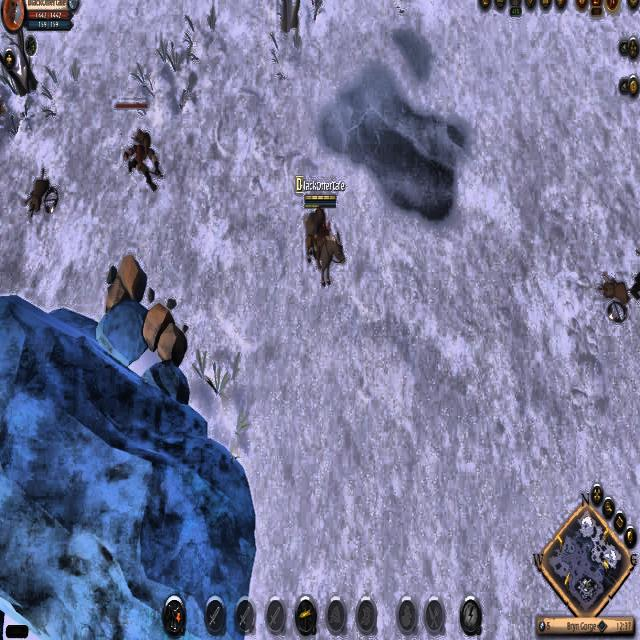limestone: (140, 295, 191, 366), (104, 251, 149, 318)
